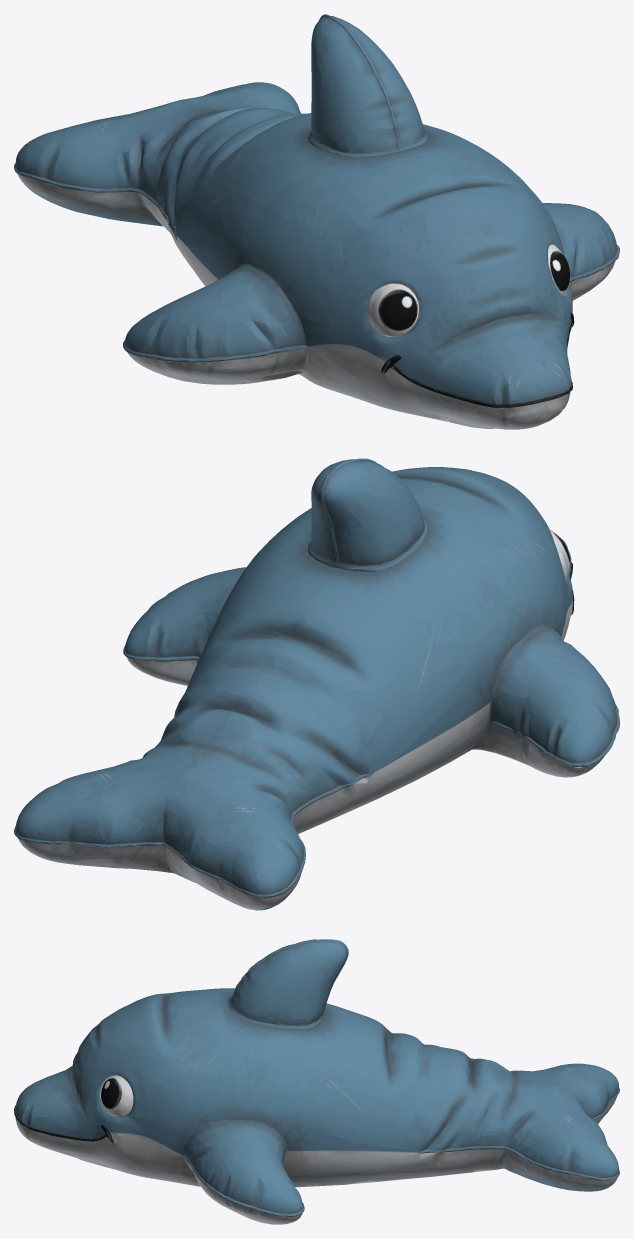
Rendered from delfino_gonfiabile_sgonfio.glb.
3 views of the same model, one above another, from view 1: azimuth 30°, elevation 25°; view 2: azimuth 150°, elevation 25°; view 3: azimuth 270°, elevation 25° (orthographic). The views are drawn at different scales.
Visible parts, largest first — view 1: Mesh_0; view 2: Mesh_0; view 3: Mesh_0.
Boxes of the visible parts, x1,y1,x2,y2 form: Mesh_0: [14, 14, 619, 429]; Mesh_0: [14, 458, 619, 910]; Mesh_0: [14, 939, 619, 1224].
Bounding box in the file's own units: 1.29 × 0.7412 × 1.9.
1 material, 1 textured.
